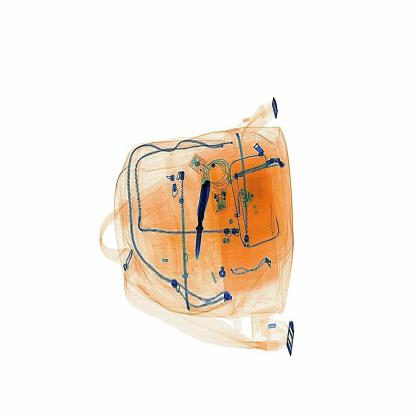gun: (184, 171, 214, 270)
